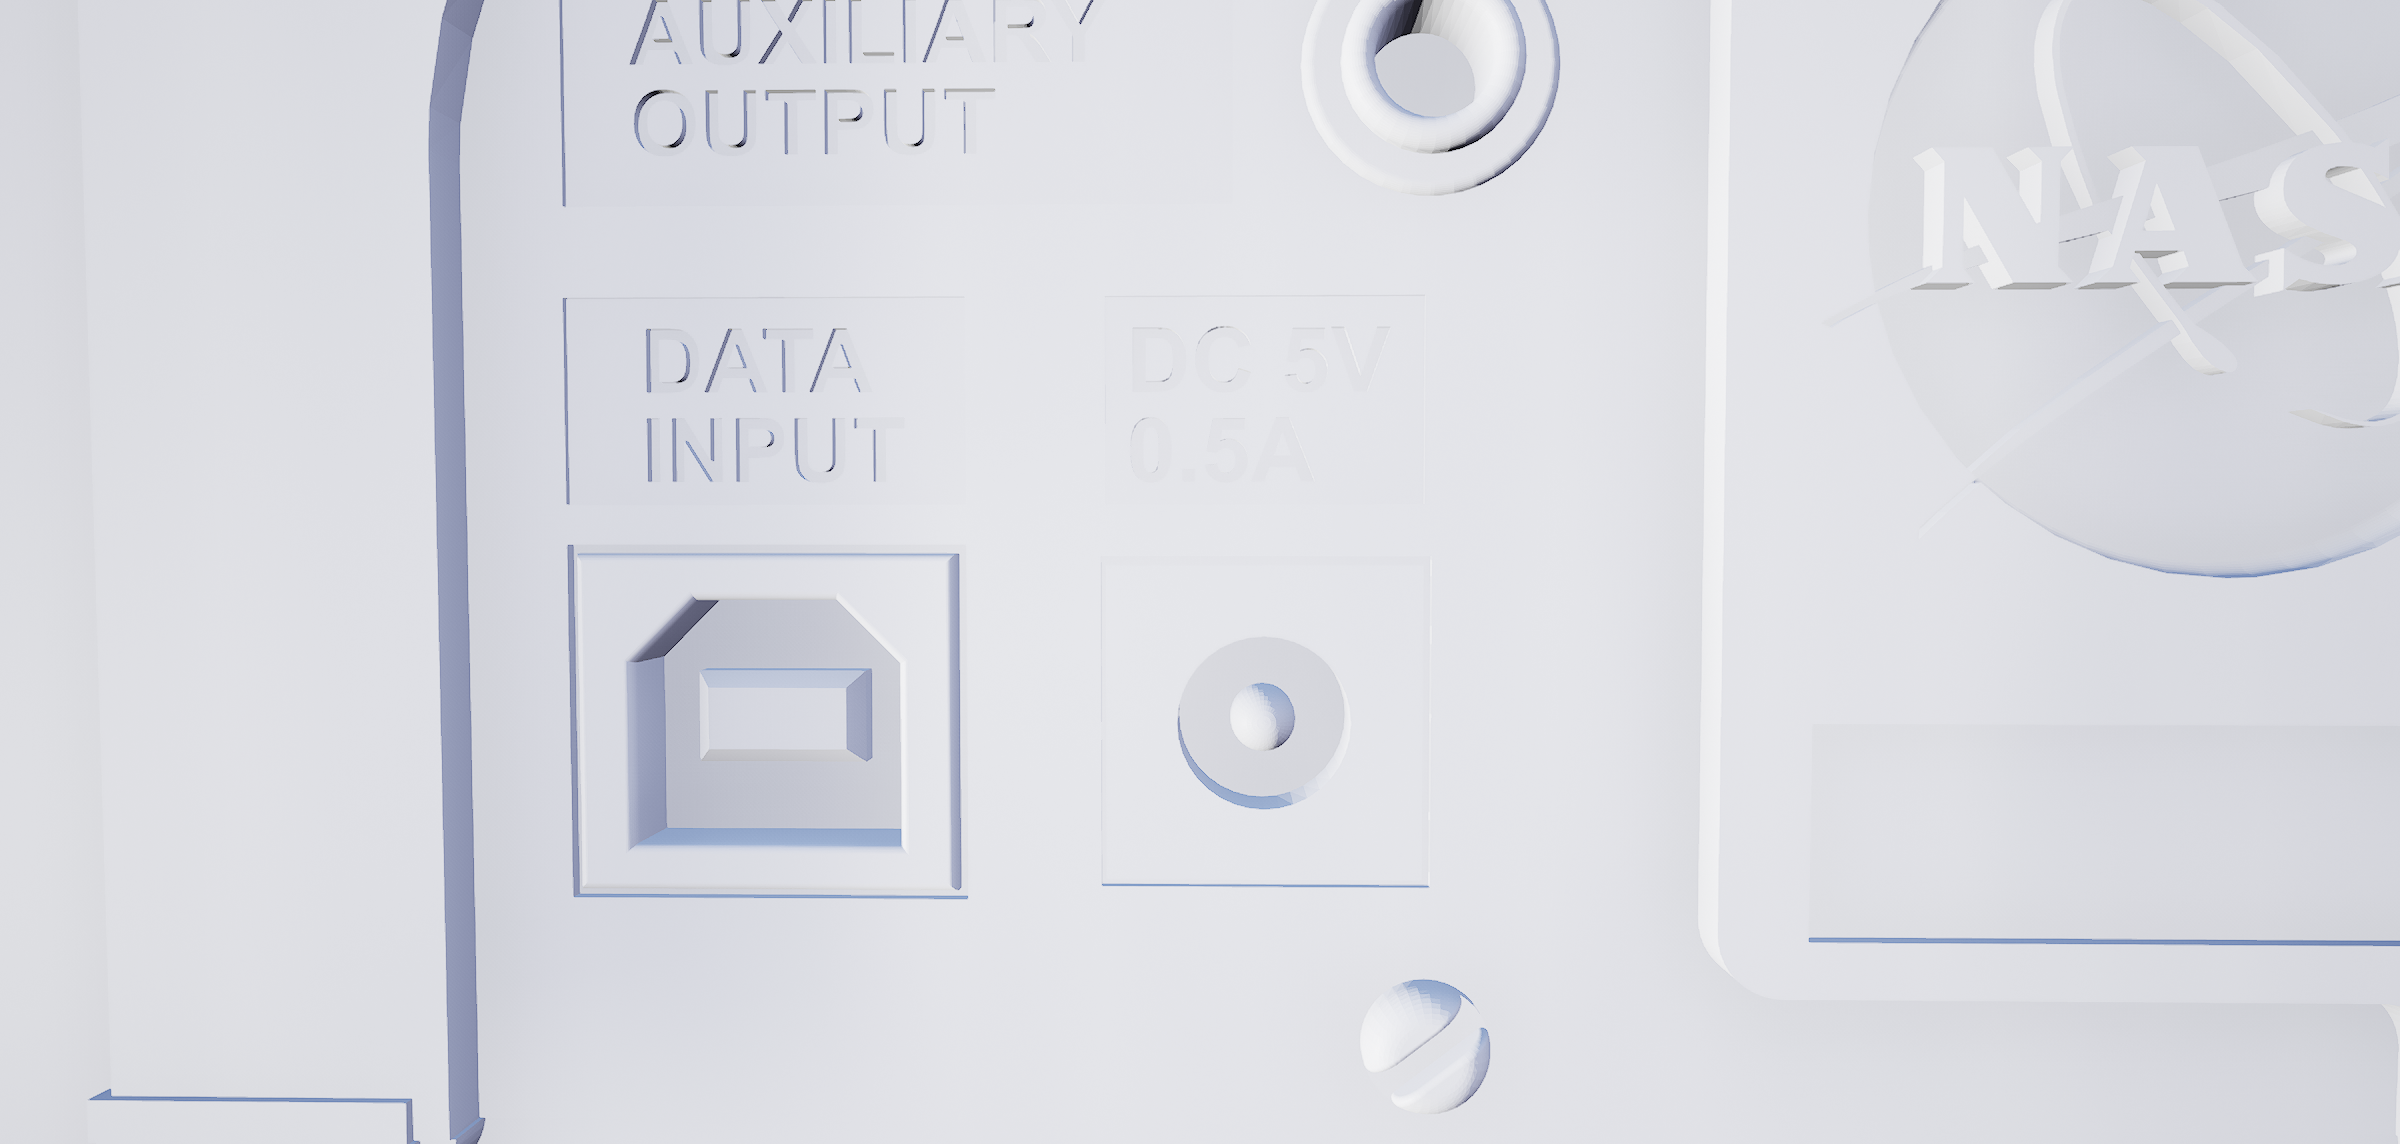aux: (1287, 2, 1573, 210)
dc: (1162, 616, 1371, 830)
usb: (615, 590, 918, 865)
